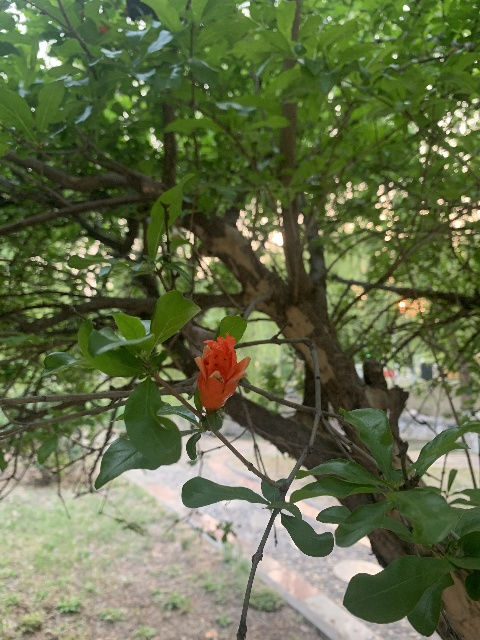flower: (193, 332, 250, 409)
